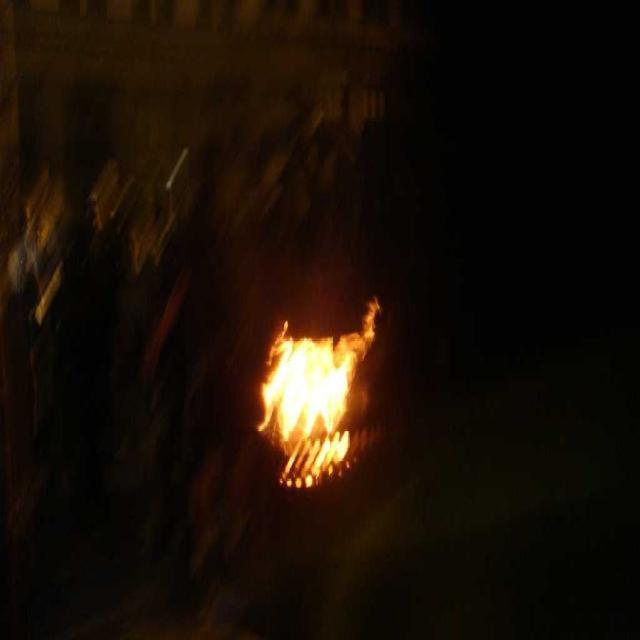Fire: (266, 327, 366, 488)
